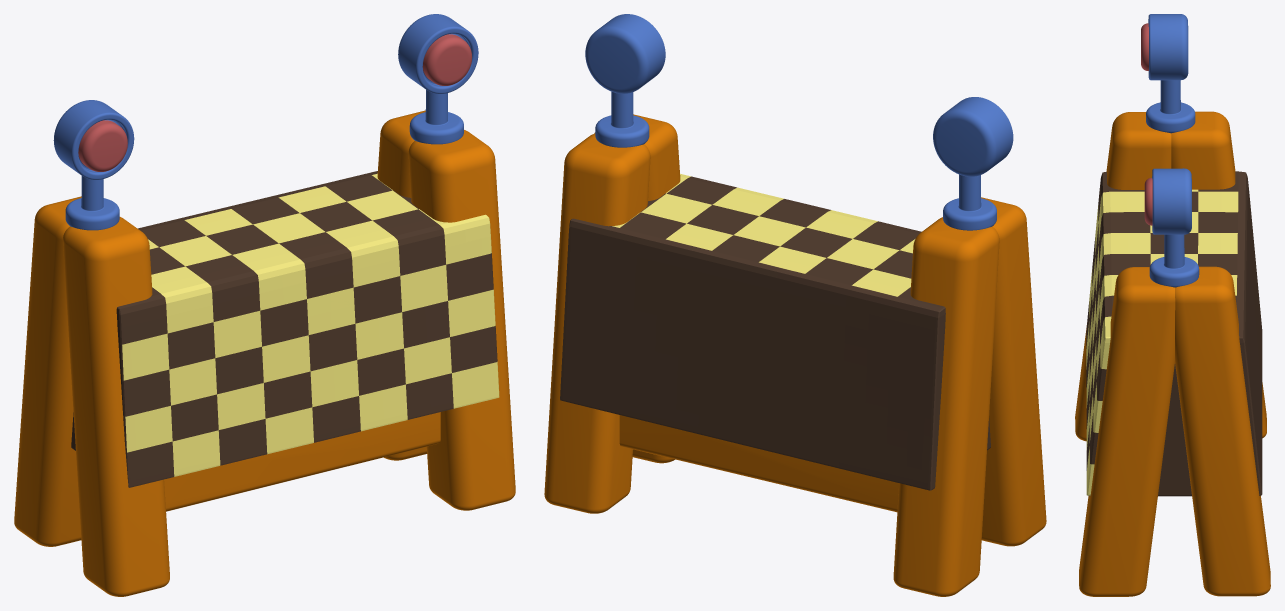
File: zhangai.fbx
3 renders of one model, left to right at view 1: azimuth 30°, elevation 25°; view 2: azimuth 150°, elevation 25°; view 3: azimuth 270°, elevation 25°, orthographic. The views are drawn at different scales.
Parts seen in each view (by area): view 1: 立方体, Cube.188, Cube.189, Cube.193, Cube.190, Cylinder.107, Cylinder.106, Cube.192, Cylinder.104, Cylinder.105; view 2: 立方体, Cube.193, Cube.192, Cube.188, Cube.194, Cylinder.107, Cylinder.106, Cube.189, Cylinder.105, Cylinder.104; view 3: Cube.189, Cube.192, 立方体, Cube.188, Cube.193, Cylinder.106, Cylinder.107, Cylinder.105, Cylinder.104.
Part boxes in pixels (x1,y1,x2,y2): 立方体: (71, 171, 499, 487); Cube.188: (63, 217, 169, 596); Cube.189: (408, 130, 515, 510); Cube.193: (14, 196, 81, 546); Cube.190: (164, 412, 440, 511); Cylinder.107: (398, 14, 478, 93); Cylinder.106: (53, 100, 134, 179); Cube.192: (377, 110, 426, 460); Cylinder.104: (65, 176, 119, 230); Cylinder.105: (409, 90, 463, 144); 立方体: (560, 173, 990, 490); Cube.193: (893, 217, 999, 596); Cube.192: (544, 133, 650, 513); Cube.188: (981, 197, 1046, 546); Cube.194: (619, 415, 898, 512); Cylinder.107: (585, 14, 665, 93); Cylinder.106: (933, 97, 1013, 176); Cube.189: (594, 114, 680, 463); Cylinder.105: (595, 91, 649, 147); Cylinder.104: (943, 174, 996, 230); Cube.189: (1079, 267, 1175, 596); Cube.192: (1175, 266, 1270, 596); 立方体: (1086, 171, 1262, 496); Cube.188: (1075, 112, 1171, 441); Cube.193: (1171, 111, 1266, 438); Cylinder.106: (1141, 14, 1188, 80); Cylinder.107: (1144, 168, 1191, 234); Cylinder.105: (1149, 234, 1199, 287); Cylinder.104: (1146, 80, 1195, 133).
Bounding box in the file's own units: 495 × 516 × 222.
